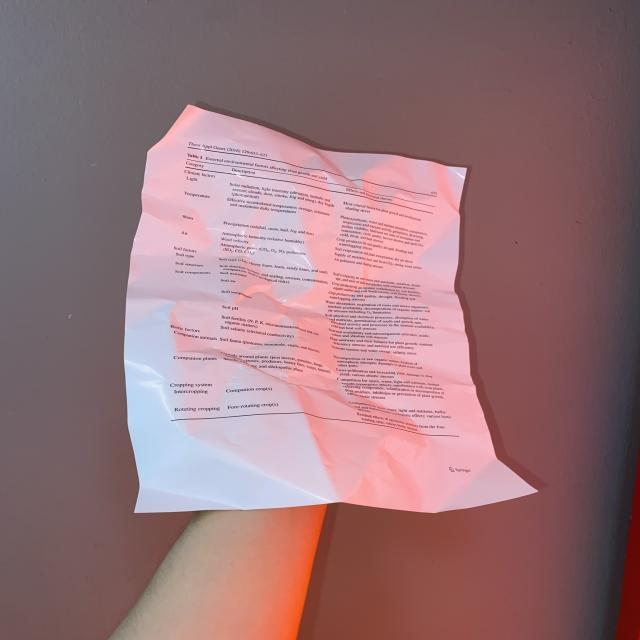document: (125, 106, 535, 512)
